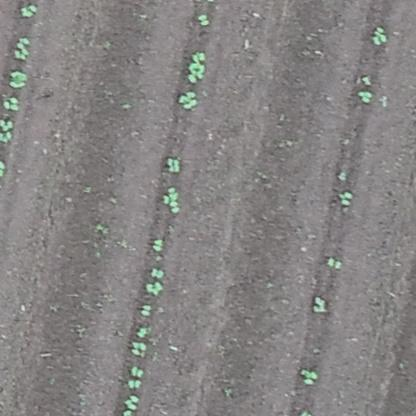vc: (181, 47, 209, 82), (161, 188, 181, 217), (176, 91, 201, 112), (297, 364, 322, 385), (13, 37, 32, 60), (163, 156, 187, 174), (370, 25, 388, 48), (146, 280, 166, 299), (322, 254, 343, 272), (9, 69, 28, 88), (126, 340, 146, 358), (312, 295, 330, 315), (192, 13, 212, 30), (121, 394, 141, 410), (340, 189, 354, 208), (19, 5, 39, 18), (4, 95, 20, 110), (355, 90, 372, 104), (133, 325, 148, 340), (129, 365, 146, 377), (151, 237, 164, 252), (150, 269, 166, 279), (1, 119, 15, 129), (2, 133, 15, 143), (127, 382, 143, 390), (141, 306, 152, 315)
